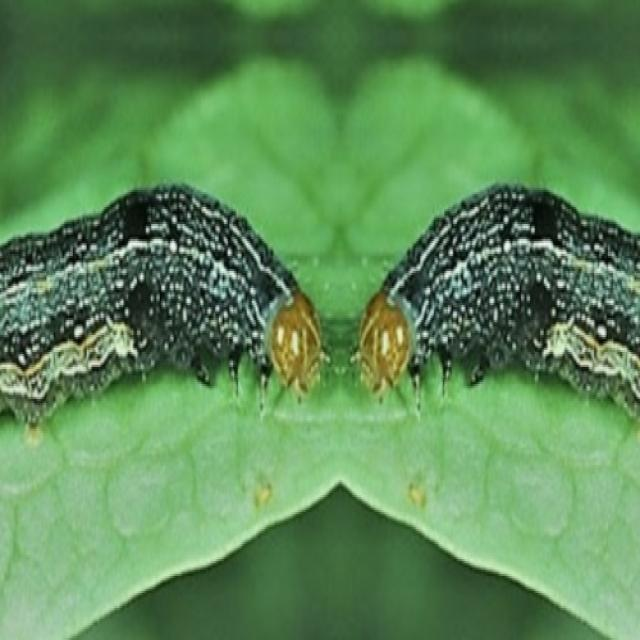armyworm: (0, 179, 330, 429), (349, 179, 639, 440)
